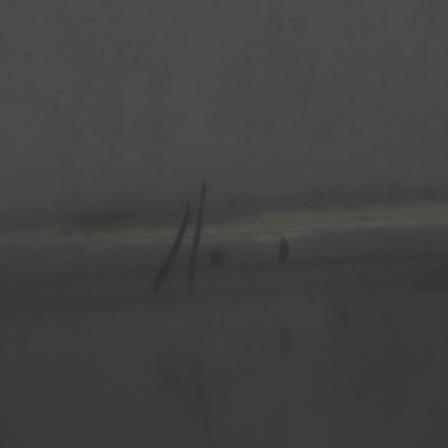Jentik-Nyamuk: (146, 176, 212, 293)
